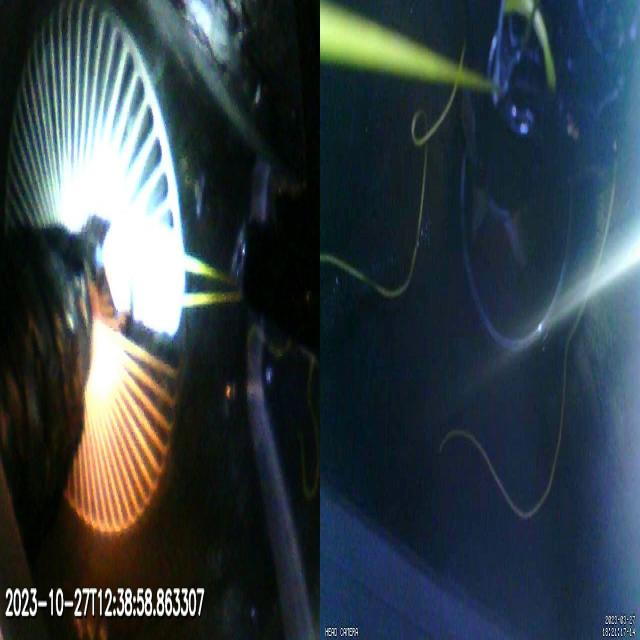head: (108, 217, 186, 337)
